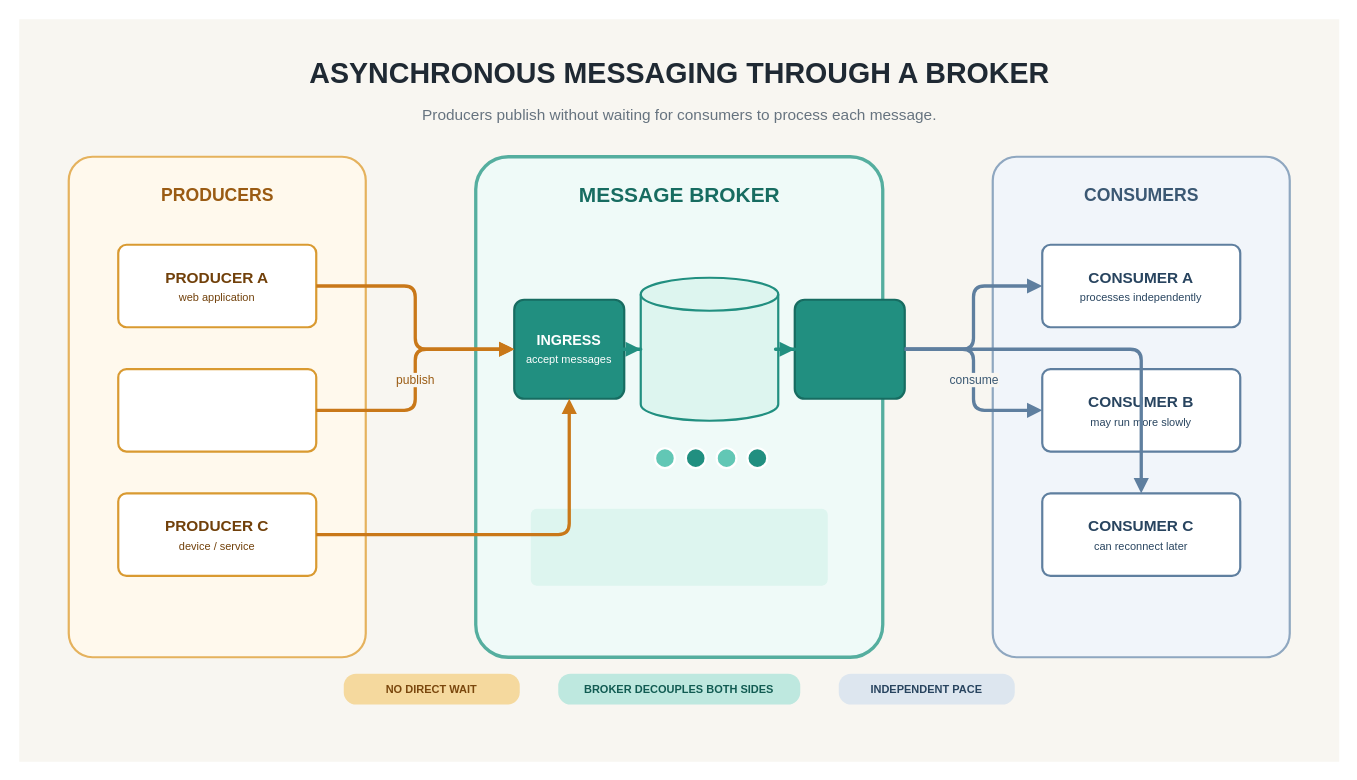
The diagram is 1357 pixels wide and 780 high, and some of its shapes have lost their labels. Each missing label, with the centre of its shape:
"EGRESS deliver messages" belongs at (x=849, y=348).
"MESSAGE QUEUE memory or disk" belongs at (x=709, y=348).
"PRODUCER B mobile service" belongs at (x=217, y=409).
"The queue absorbs the time difference between publishing and processing." belongs at (x=678, y=546).
